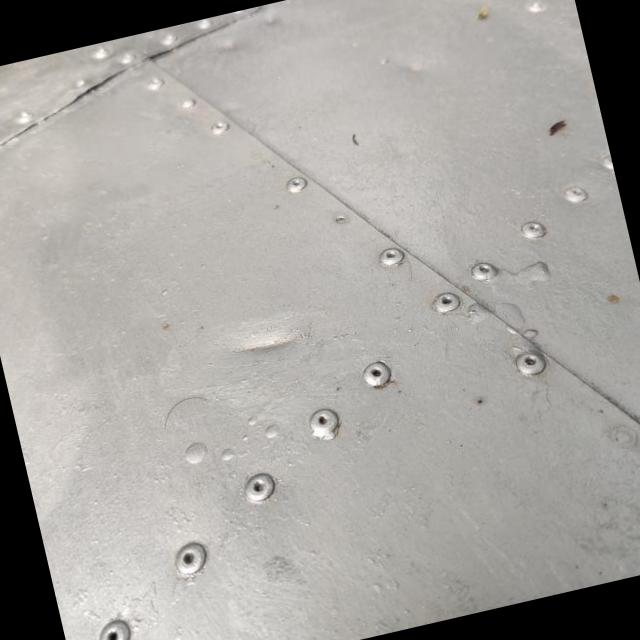Dent: (220, 322, 332, 368)
